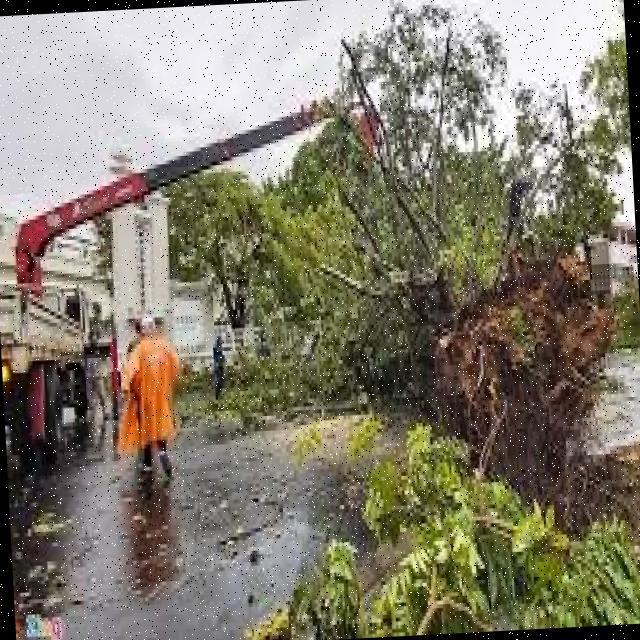fallen_object: (329, 151, 640, 566)
